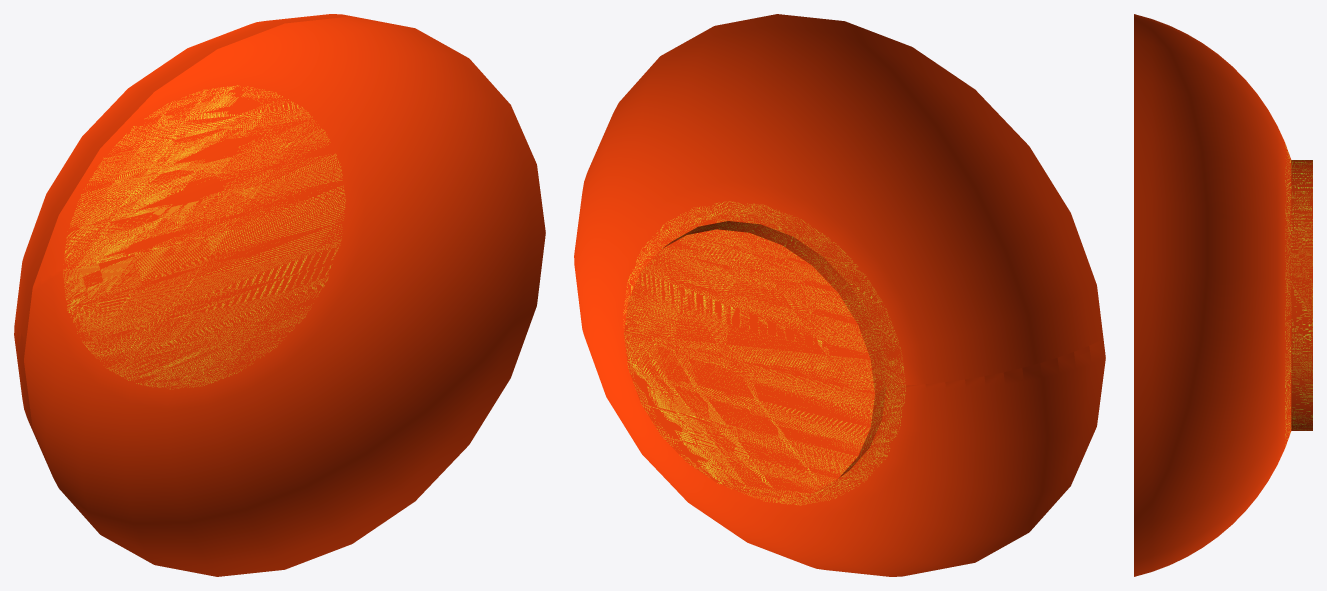
The model's file is model_scale.obj.
3 renders of one model, left to right at view 1: azimuth 30°, elevation 25°; view 2: azimuth 150°, elevation 25°; view 3: azimuth 270°, elevation 25°, orthographic. The views are drawn at different scales.
Parts seen in each view (by area): view 1: mesh1_mesh1-geometry; view 2: mesh1_mesh1-geometry; view 3: mesh1_mesh1-geometry.
Part boxes in pixels (bbox=[...]): mesh1_mesh1-geometry: bbox=[14, 14, 545, 576]; mesh1_mesh1-geometry: bbox=[574, 14, 1105, 576]; mesh1_mesh1-geometry: bbox=[1134, 14, 1312, 576].
Size of the model in its own units: 0.1425 by 0.1425 by 0.0451.
